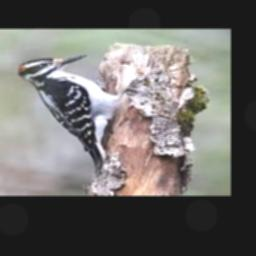Woodpecker: (18, 54, 122, 172)
